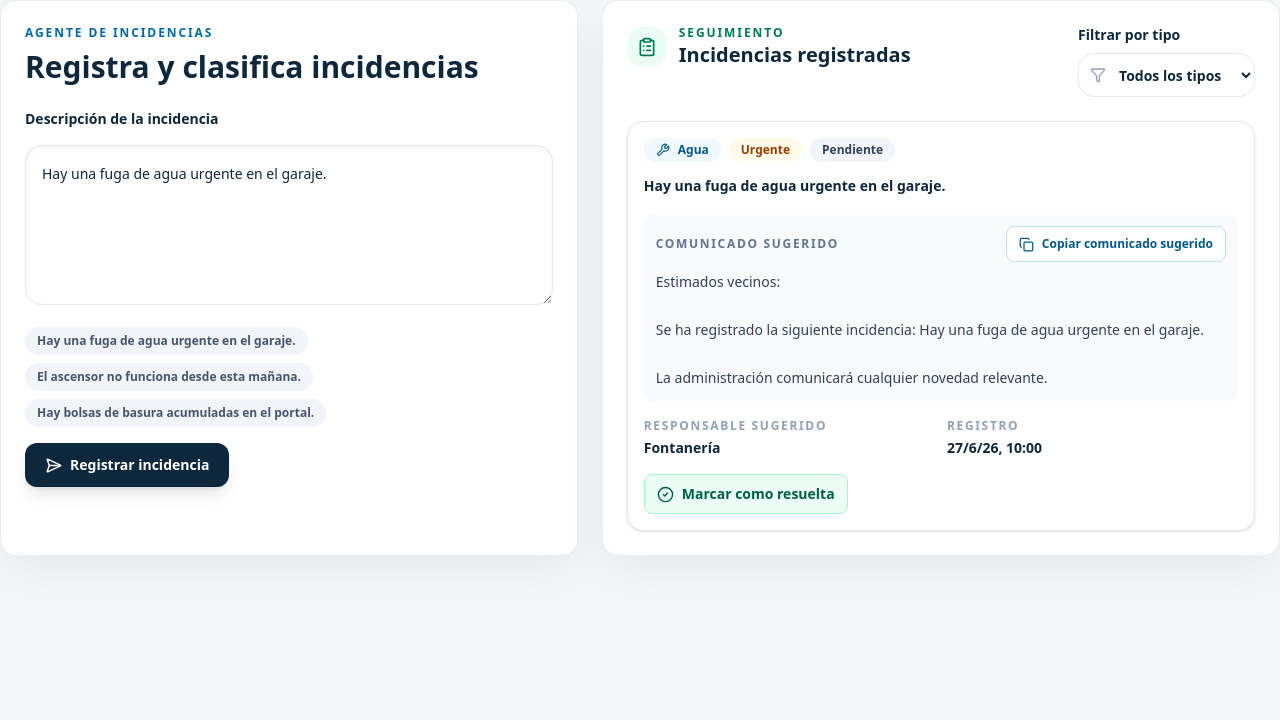
Scenario: IncidentsPanel › muestra un error accesible si no puede copiar el comunicado sugerido
Click the button "Copiar comunicado sugerido" at (1116, 244), box [1006,226,1226,262]
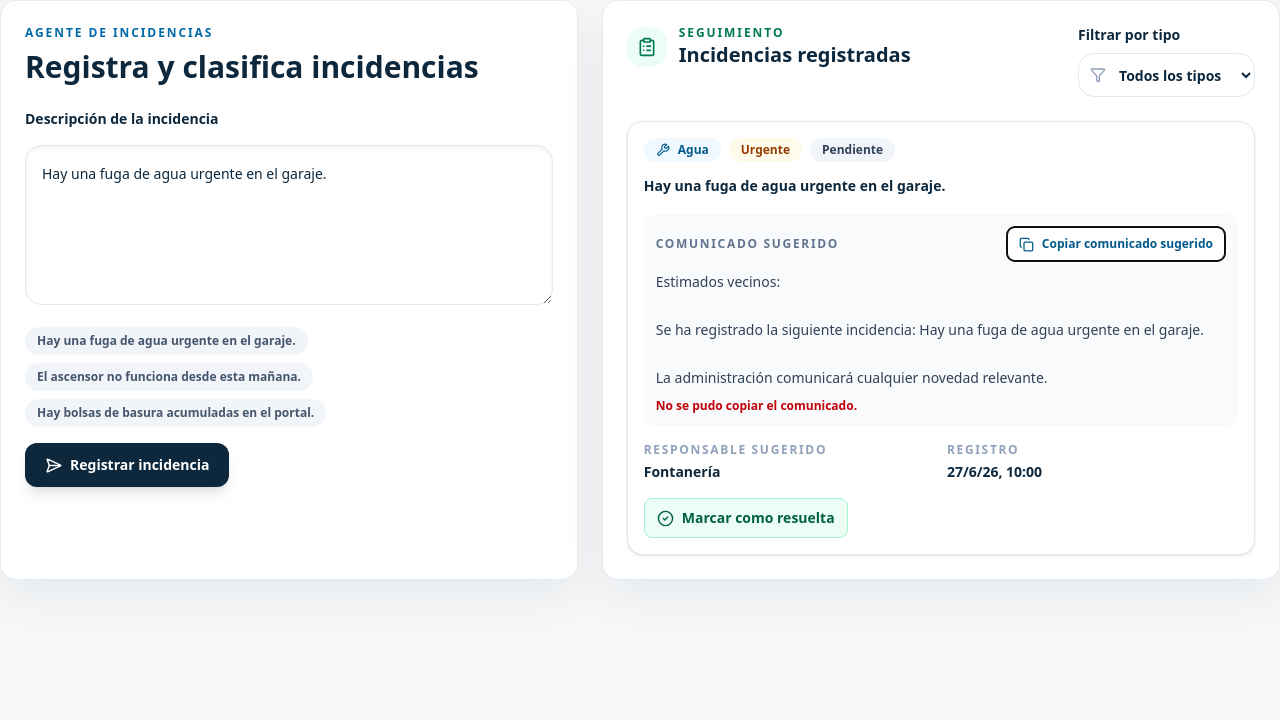
Now the message reads "No se pudo copiar el comunicado.", box [656,397,857,414]
